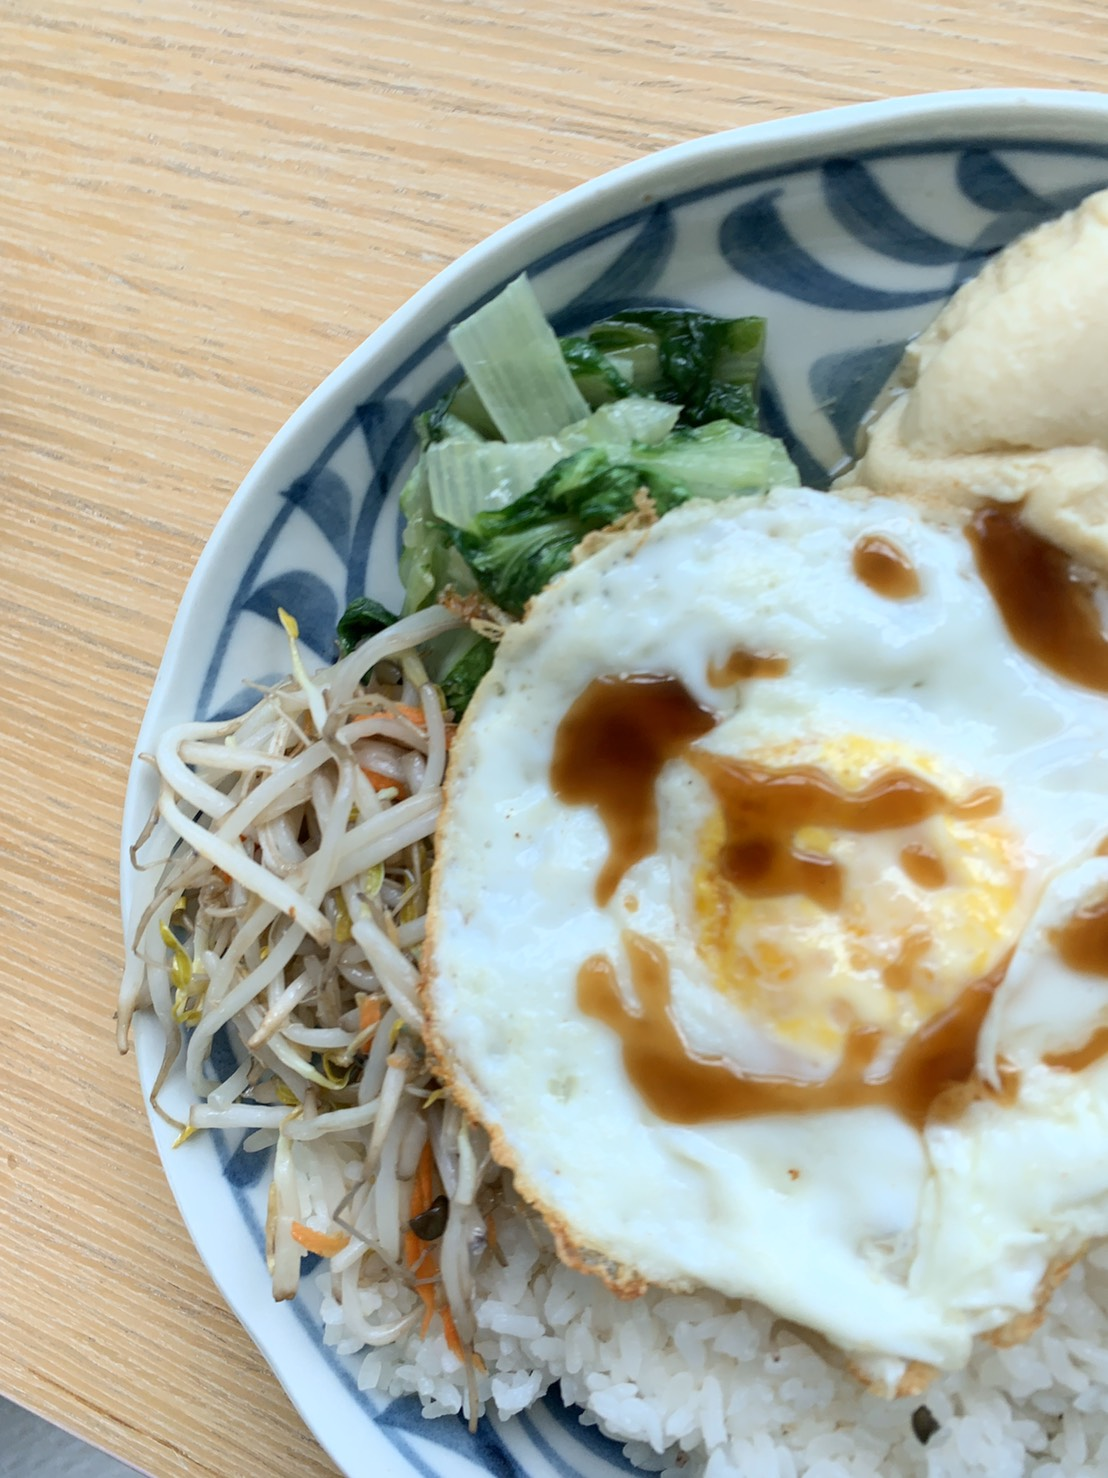fried_eggs: (519, 550, 1108, 1249)
mung_bean_sprouts: (138, 715, 431, 1104)
rice: (517, 1263, 1108, 1478)
